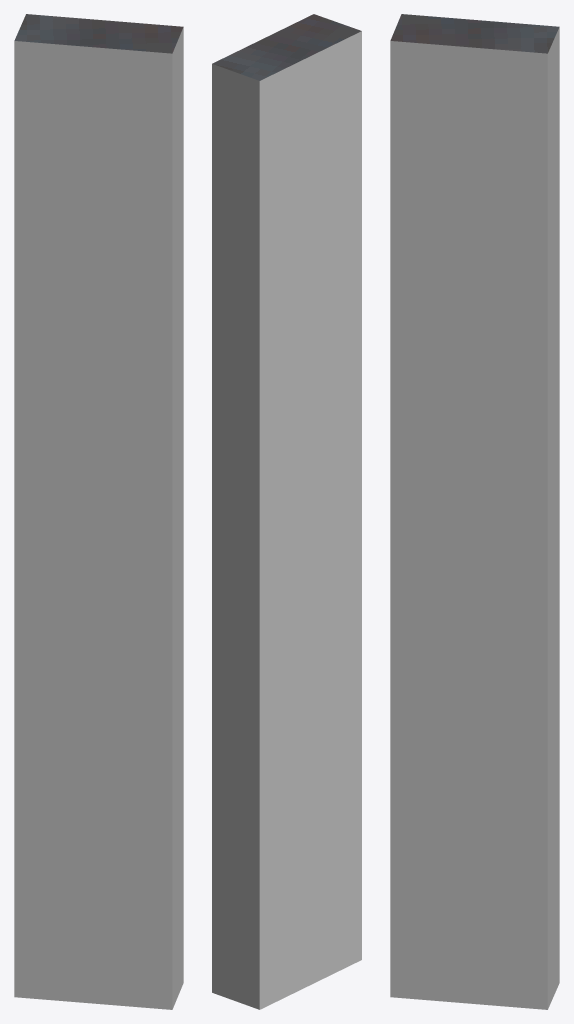
The model's file is DEBW_0010007THXu.gltf.
3 views of the same model, side by side, from view 1: azimuth 90°, elevation 25°; view 2: azimuth 150°, elevation 25°; view 3: azimuth 270°, elevation 25° (orthographic). The views are drawn at different scales.
Visible parts, largest first — view 1: Z_UP; view 2: Z_UP; view 3: Z_UP.
Boxes of the visible parts, bbox=[...] form: Z_UP: bbox=[14, 14, 183, 1009]; Z_UP: bbox=[212, 14, 361, 1009]; Z_UP: bbox=[390, 14, 559, 1009].
Size of the model in its own units: 1.43 by 16.08 by 2.58.
2 materials, 1 textured.
